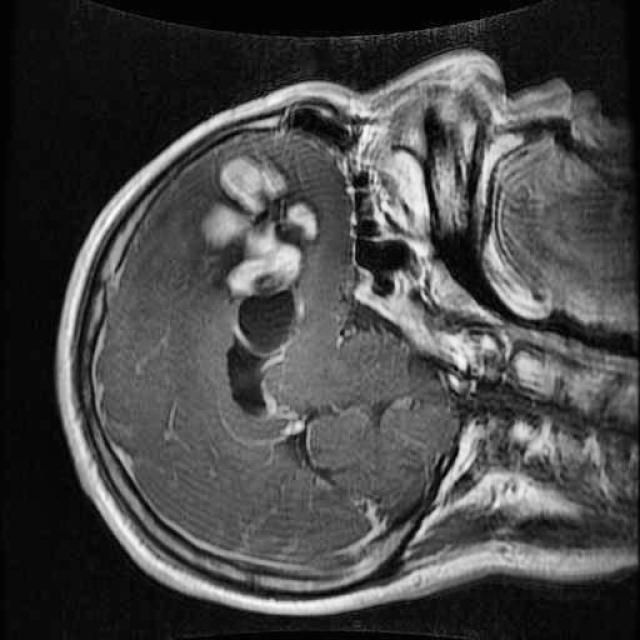Tumor: (178, 131, 338, 448)
